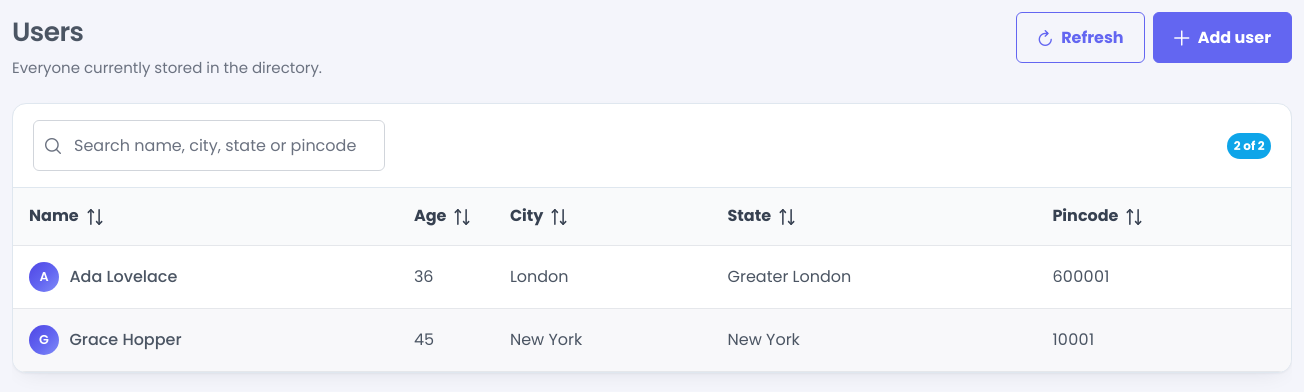
Scenario: UserListPage › tells the user when a search matches nothing
Expected: the text "Ada Lovelace" is shown, [69,265,177,288]
Type "zzzz" into the field named "Search users".
click(209, 146); type("zzzz")  # box [33,120,385,171]
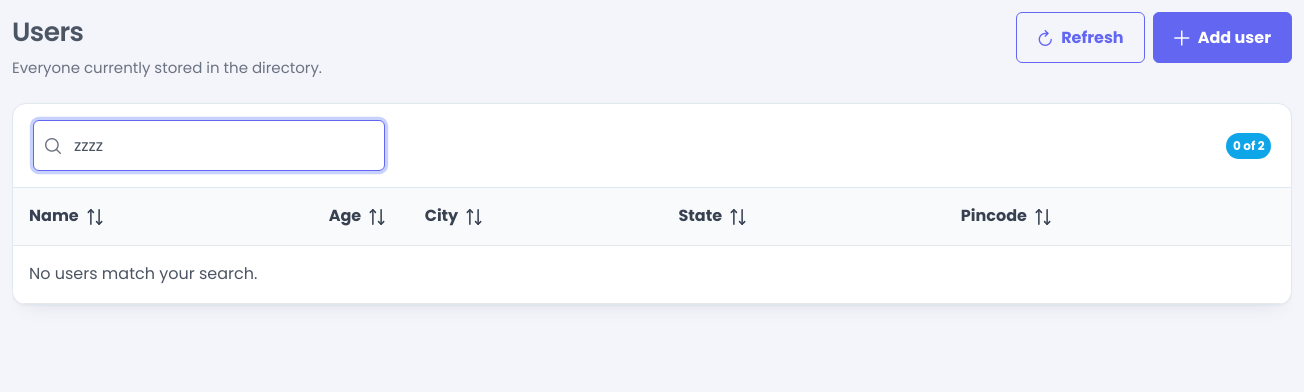
Expected: the text "No users match your search." is shown, [13,246,1291,304]
Expected: the text "Grace Hopper" is gone
